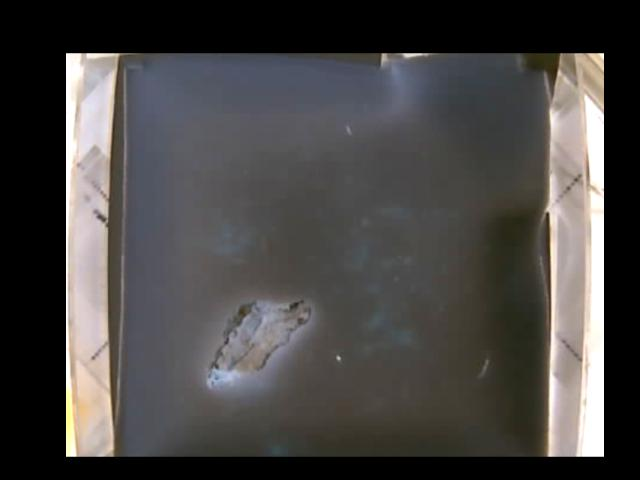Brisk: (208, 297, 312, 383)
